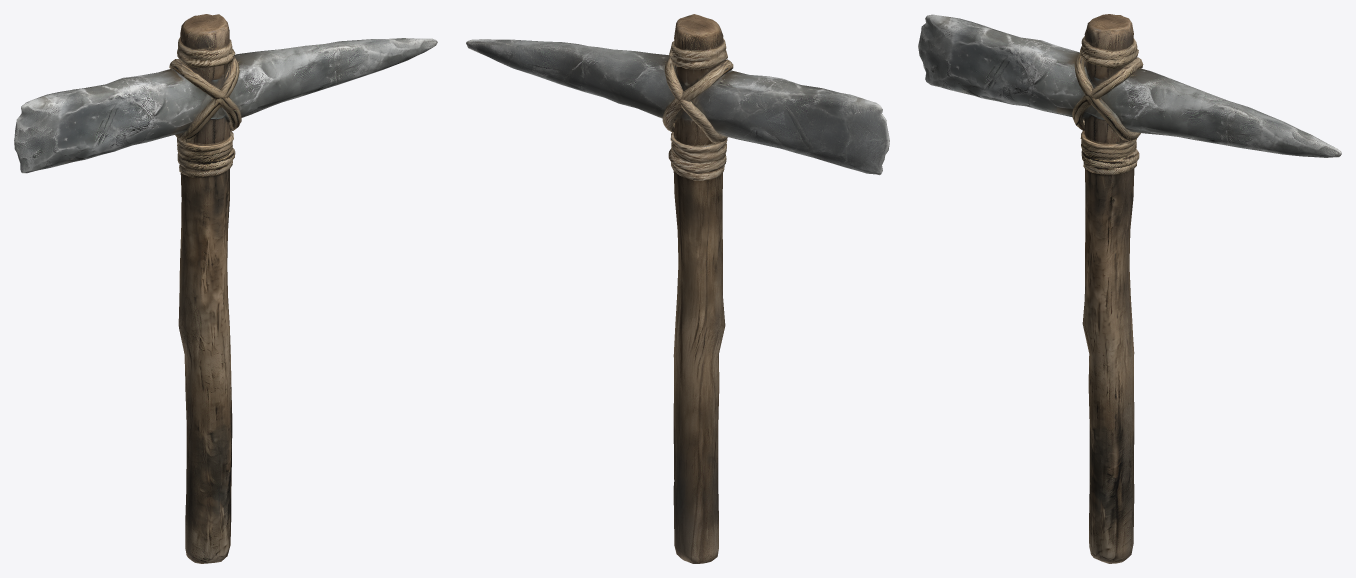
Rendered from stone_pickaxe.glb.
The picture shows the model from 3 angles, left to right: view 1: azimuth 30°, elevation 25°; view 2: azimuth 150°, elevation 25°; view 3: azimuth 330°, elevation 25°; orthographic projection.
Visible parts, largest first — view 1: Mesh_0; view 2: Mesh_0; view 3: Mesh_0.
Boxes of the visible parts, x1=… form: Mesh_0: x1=14, y1=14, x2=437, y2=563; Mesh_0: x1=466, y1=14, x2=889, y2=563; Mesh_0: x1=918, y1=14, x2=1341, y2=563.
Size of the model in its own units: 0.4943 by 0.6 by 0.076.
Materials: 1 (1 with a texture image).
